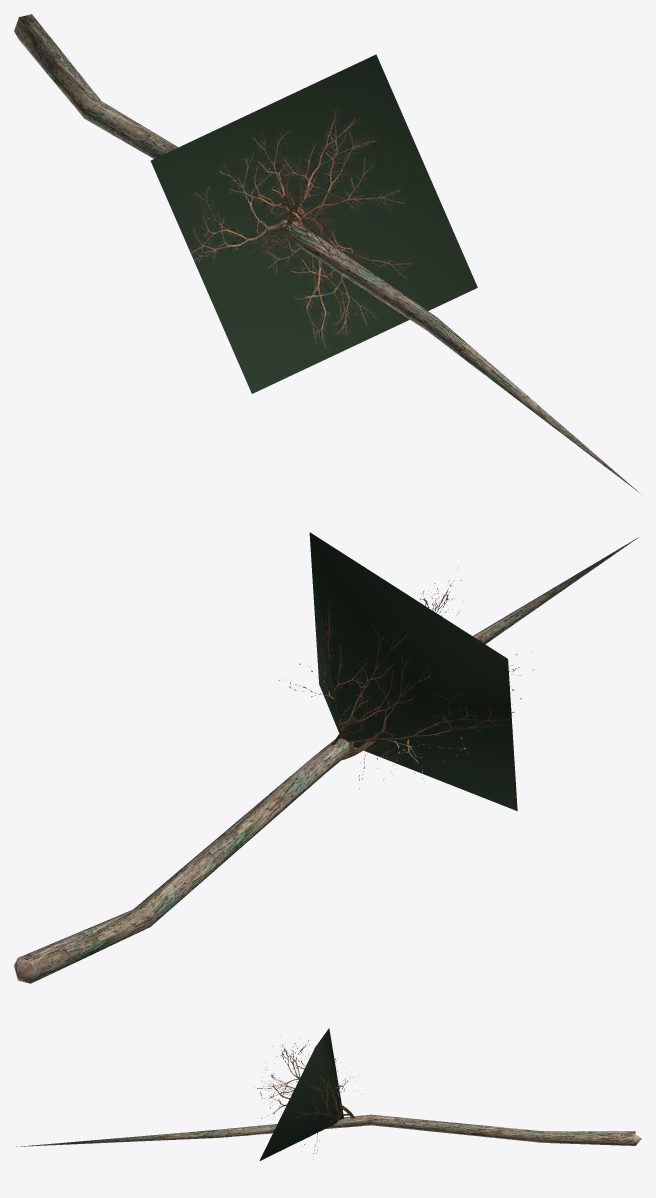
The model's file is decd_dogwoodlog_l0.fbx.
3 views of the same model, one above another, from view 1: azimuth 30°, elevation 25°; view 2: azimuth 150°, elevation 25°; view 3: azimuth 270°, elevation 25° (orthographic). The views are drawn at different scales.
Parts seen in each view (by area): view 1: mesh_node; view 2: mesh_node; view 3: mesh_node.
Part boxes in pixels (x1,y1,x2,y2): mesh_node: (14,14,641,494); mesh_node: (14,532,638,983); mesh_node: (16,1028,641,1160).
Bounding box in the file's own units: 2 × 2.16 × 8.25.
